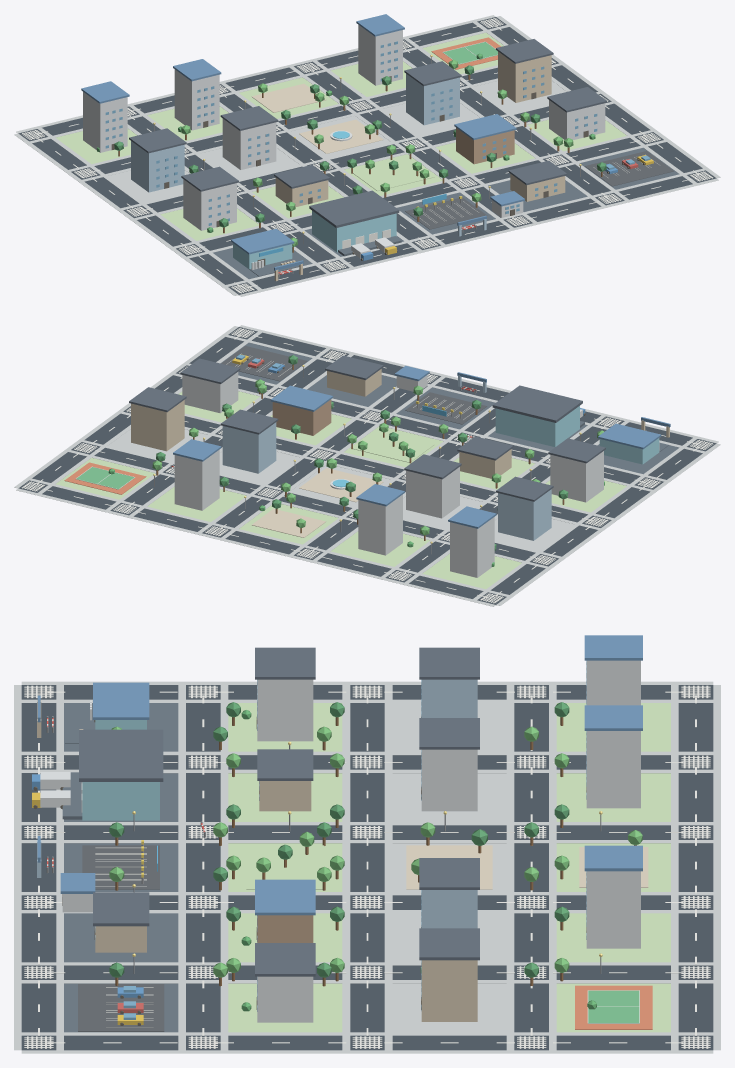
The model's file is campus_static_scene.glb.
3 renders of one model, top to bottom at view 1: azimuth 30°, elevation 25°; view 2: azimuth 150°, elevation 25°; view 3: azimuth 270°, elevation 25°, orthographic. The views are drawn at different scales.
Parts seen in each view (by area): view 1: Road_H_01, Road_V_01, Road_H_02, Road_H_05, Road_V_04, Road_V_06, Road_V_05, Road_H_04, Residential_A2_Body, Road_V_03, Road_V_02, Road_H_03 (+73 smaller); view 2: Road_H_05, Road_V_01, Road_H_04, Road_H_01, Road_V_04, Road_H_03, Road_V_06, Apartment_A3_Body, Residential_A2_Body, Residential_A1_Body, Road_H_02, Administration_Building_Body (+72 smaller); view 3: Road_H_05, Road_H_03, Road_H_02, Road_H_04, Road_H_01, Road_V_06, Road_V_03, Road_V_05, Warehouse_Roof, Road_V_02, Apartment_A3_Body, Residential_A2_Body (+77 smaller).
Part boxes in pixels (bbox=[...]): Road_H_01: bbox=[230, 176, 716, 294]; Road_V_01: bbox=[18, 129, 247, 294]; Road_H_02: bbox=[177, 132, 663, 255]; Road_H_05: bbox=[19, 17, 506, 135]; Road_V_04: bbox=[294, 62, 520, 226]; Road_V_06: bbox=[478, 17, 715, 180]; Road_V_05: bbox=[403, 39, 620, 198]; Road_H_04: bbox=[71, 58, 558, 175]; Residential_A2_Body: bbox=[174, 69, 219, 130]; Road_V_03: bbox=[219, 84, 440, 249]; Road_V_02: bbox=[127, 107, 349, 270]; Road_H_03: bbox=[134, 93, 611, 217]; Road_H_05: bbox=[19, 480, 505, 604]; Road_V_01: bbox=[485, 442, 716, 604]; Road_H_04: bbox=[71, 442, 558, 566]; Road_H_01: bbox=[228, 327, 715, 447]; Road_V_04: bbox=[202, 375, 437, 537]; Road_H_03: bbox=[123, 406, 610, 527]; Road_V_06: bbox=[19, 327, 257, 492]; Apartment_A3_Body: bbox=[174, 449, 219, 510]; Residential_A2_Body: bbox=[358, 494, 402, 555]; Residential_A1_Body: bbox=[450, 517, 494, 577]; Road_H_02: bbox=[176, 365, 655, 489]; Administration_Building_Body: bbox=[222, 422, 276, 473]; Road_H_05: bbox=[678, 685, 713, 1050]; Road_H_03: bbox=[350, 685, 384, 1050]; Road_H_02: bbox=[186, 685, 220, 1050]; Road_H_04: bbox=[514, 685, 548, 1050]; Road_H_01: bbox=[21, 685, 56, 1050]; Road_V_06: bbox=[21, 1035, 713, 1050]; Road_V_03: bbox=[21, 825, 713, 839]; Road_V_05: bbox=[21, 965, 713, 979]; Warehouse_Roof: bbox=[79, 729, 163, 781]; Road_V_02: bbox=[21, 755, 713, 769]; Apartment_A3_Body: bbox=[586, 871, 640, 948]; Residential_A2_Body: bbox=[586, 731, 640, 808].
Bounding box in the file's own units: 204 × 21.16 × 164.
